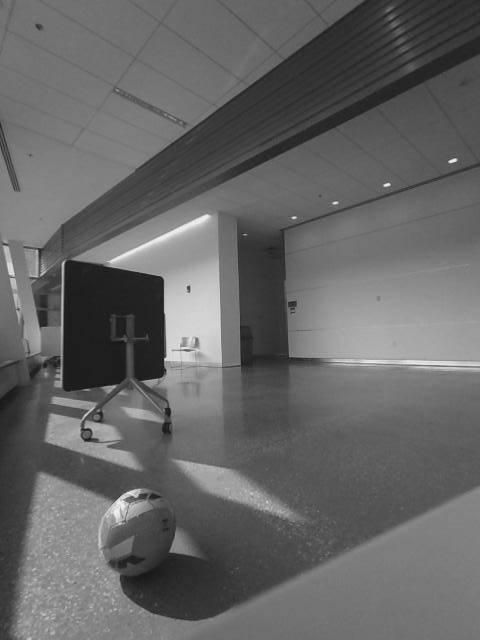ball: (95, 485, 183, 576)
